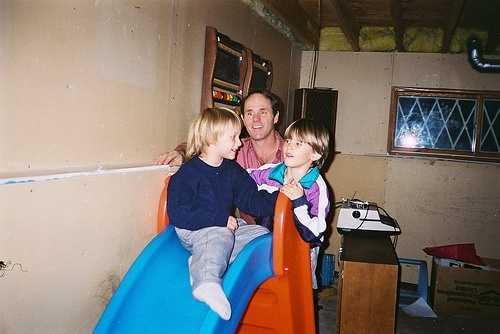head: (236, 89, 284, 141), (279, 119, 327, 171), (195, 111, 243, 163)
person: (164, 107, 278, 325), (234, 113, 331, 327), (152, 89, 287, 164)
